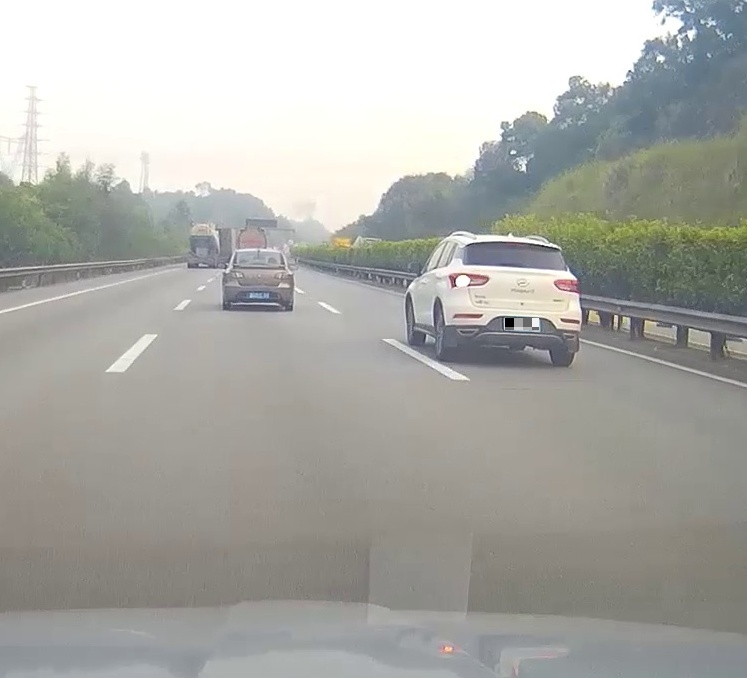L_light: (448, 272, 490, 288), (229, 271, 244, 278)
R_light: (554, 278, 580, 294), (274, 271, 289, 279)
T_light: (503, 241, 527, 247), (253, 252, 265, 254)
day-left: (444, 237, 581, 367)
day-no: (225, 250, 293, 310)
plate_1: (505, 318, 539, 330)
